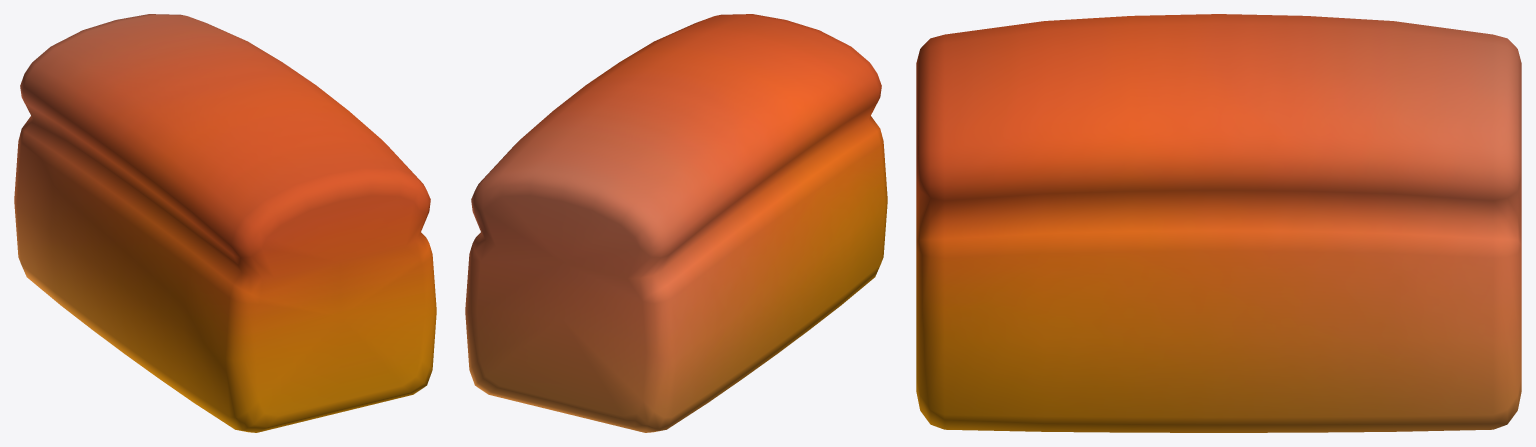
3 renders of one model, left to right at view 1: azimuth 30°, elevation 25°; view 2: azimuth 150°, elevation 25°; view 3: azimuth 270°, elevation 25°, orthographic. The views are drawn at different scales.
Visible parts, largest first — view 1: 8-2; view 2: 8-2; view 3: 8-2.
Boxes of the visible parts, bbox=[...] form: 8-2: bbox=[14, 14, 436, 432]; 8-2: bbox=[465, 14, 887, 432]; 8-2: bbox=[916, 14, 1521, 432].
Bounding box in the file's own units: 12.98 × 14.2 × 23.38.
